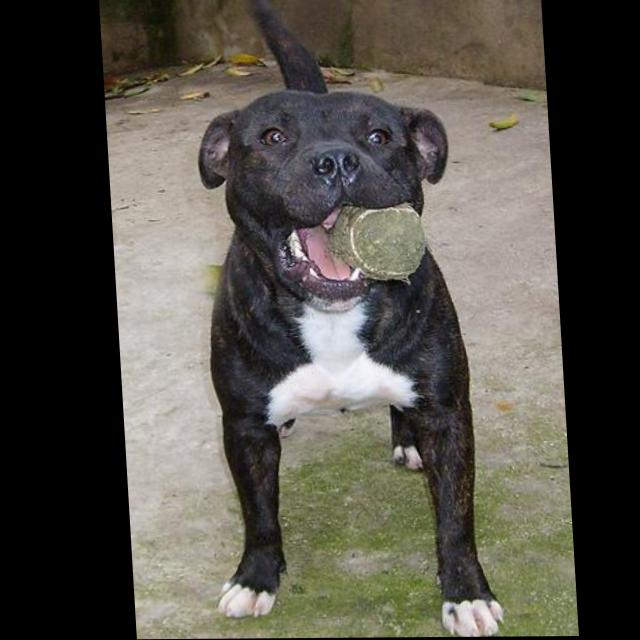staffford: (182, 1, 500, 640)
